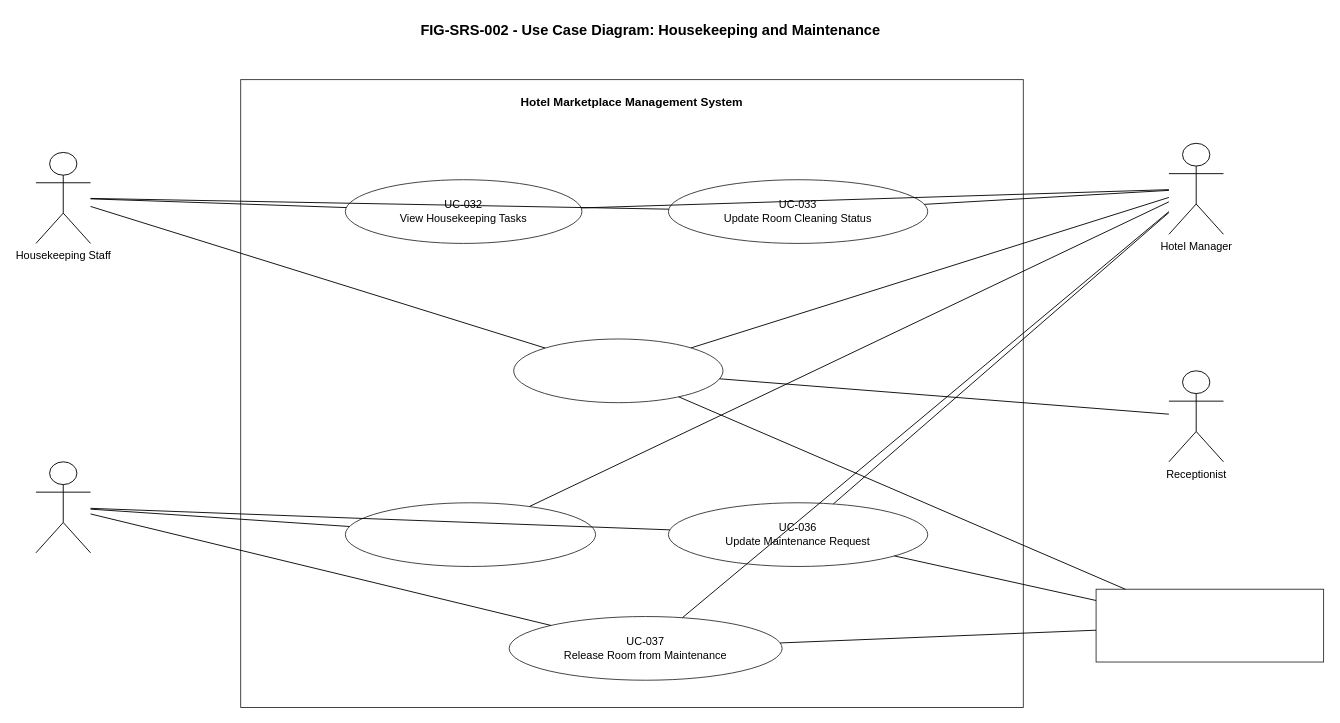
This 1340x723 diagram has some shape labels left out. The box of each missing label's shape, as (x1, y1, x2, y2) in pixels:
Maintenance Staff: (35, 461, 91, 553)
Notification Service <<external system / mock>>: (1095, 588, 1324, 662)
UC-034 Report Room Issue: (513, 338, 723, 403)
UC-035 View Maintenance Requests: (344, 502, 596, 566)
